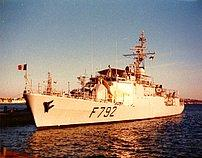MIL_Ship: (27, 35, 192, 128)
